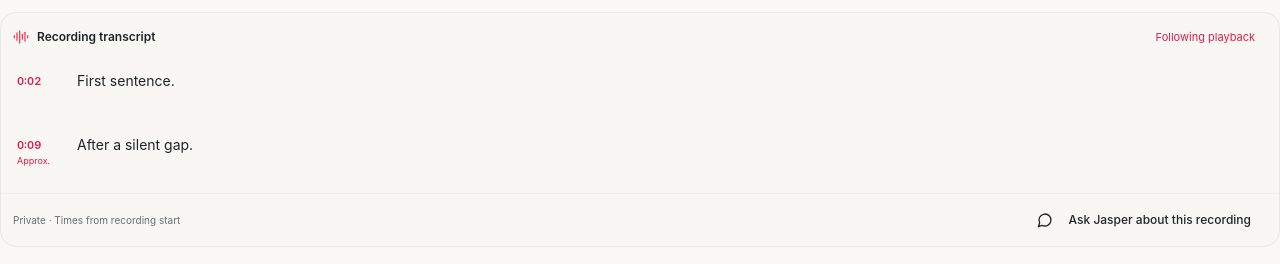
Test: recording transcript follows only the media clock › lets the user turn following off and selects recording context only on request
Later steps or results of the test are not shown.
Click the button "Following playback" at point(1205, 37), box top-left (1144, 15), bottom-right (1267, 59)
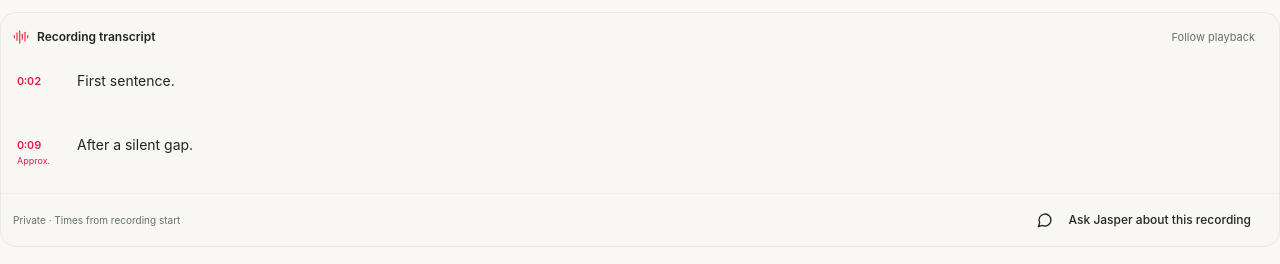
Now the button "Follow playback" is not pressed, box top-left (1160, 15), bottom-right (1267, 59)
